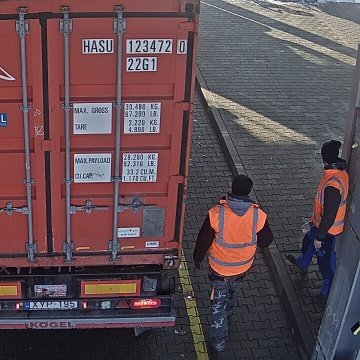serial_id: (83, 40, 185, 52)
